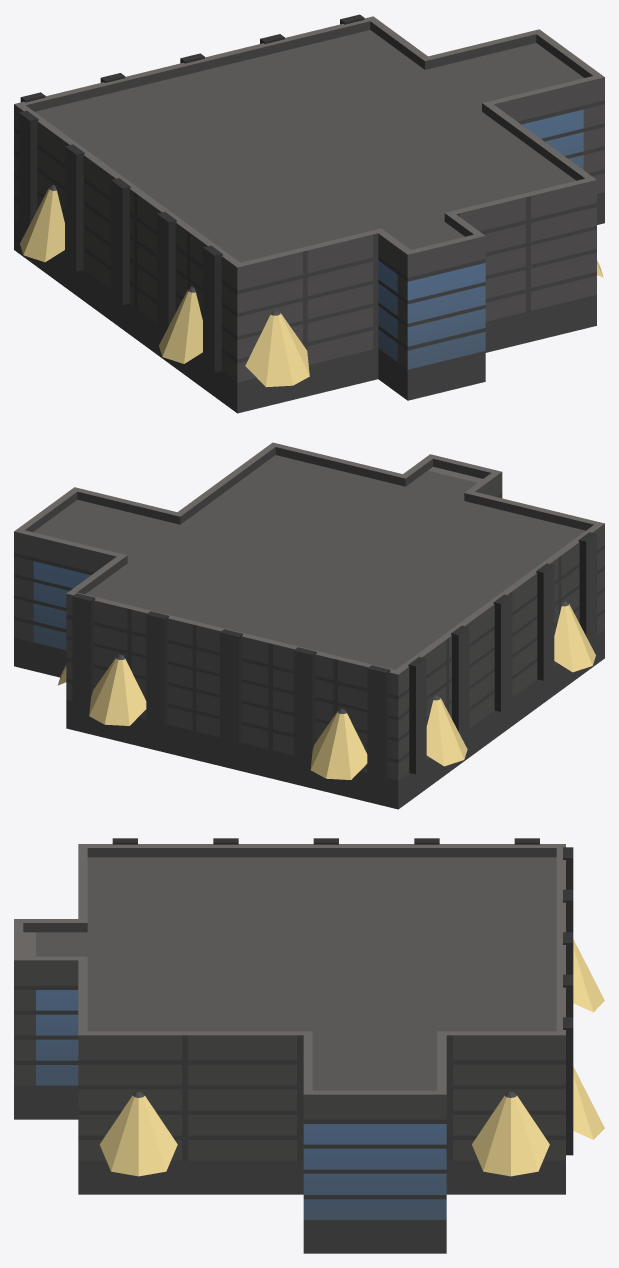
Rendered from Industrial_DataCenter.glb.
The picture shows the model from 3 angles, top to bottom: view 1: azimuth 30°, elevation 25°; view 2: azimuth 150°, elevation 25°; view 3: azimuth 270°, elevation 25°; orthographic projection. The views are drawn at different scales.
Parts seen in each view (by area): view 1: base.014, windowRefl.011, light; view 2: base.014, light, windowRefl.011; view 3: base.014, windowRefl.011, light.
Boxes of the visible parts, <box> form: base.014: <box>14,14,604,413</box>; windowRefl.011: <box>378,109,583,369</box>; light: <box>20,188,603,387</box>; base.014: <box>14,442,604,809</box>; light: <box>58,604,595,779</box>; windowRefl.011: <box>33,561,90,650</box>; base.014: <box>14,838,573,1253</box>; windowRefl.011: <box>36,990,446,1219</box>; light: <box>99,939,604,1176</box>.
Bounding box in the file's own units: 50.3 × 14.16 × 47.05.
